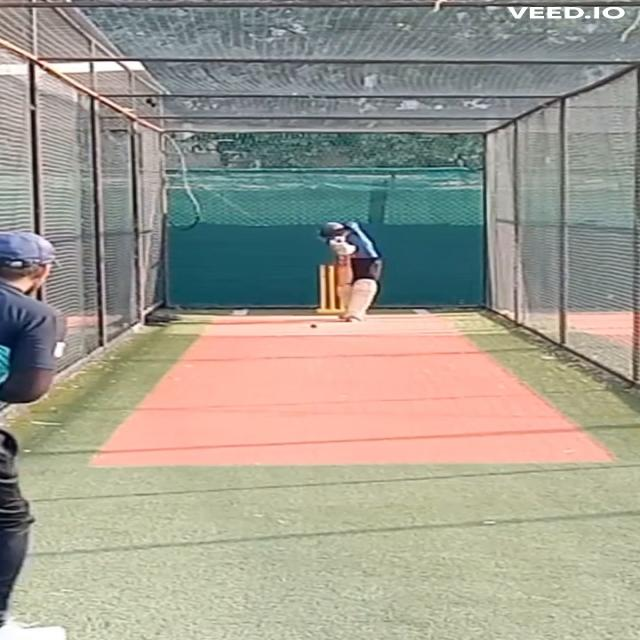ball: (308, 323, 318, 329)
stump: (314, 263, 346, 315)
